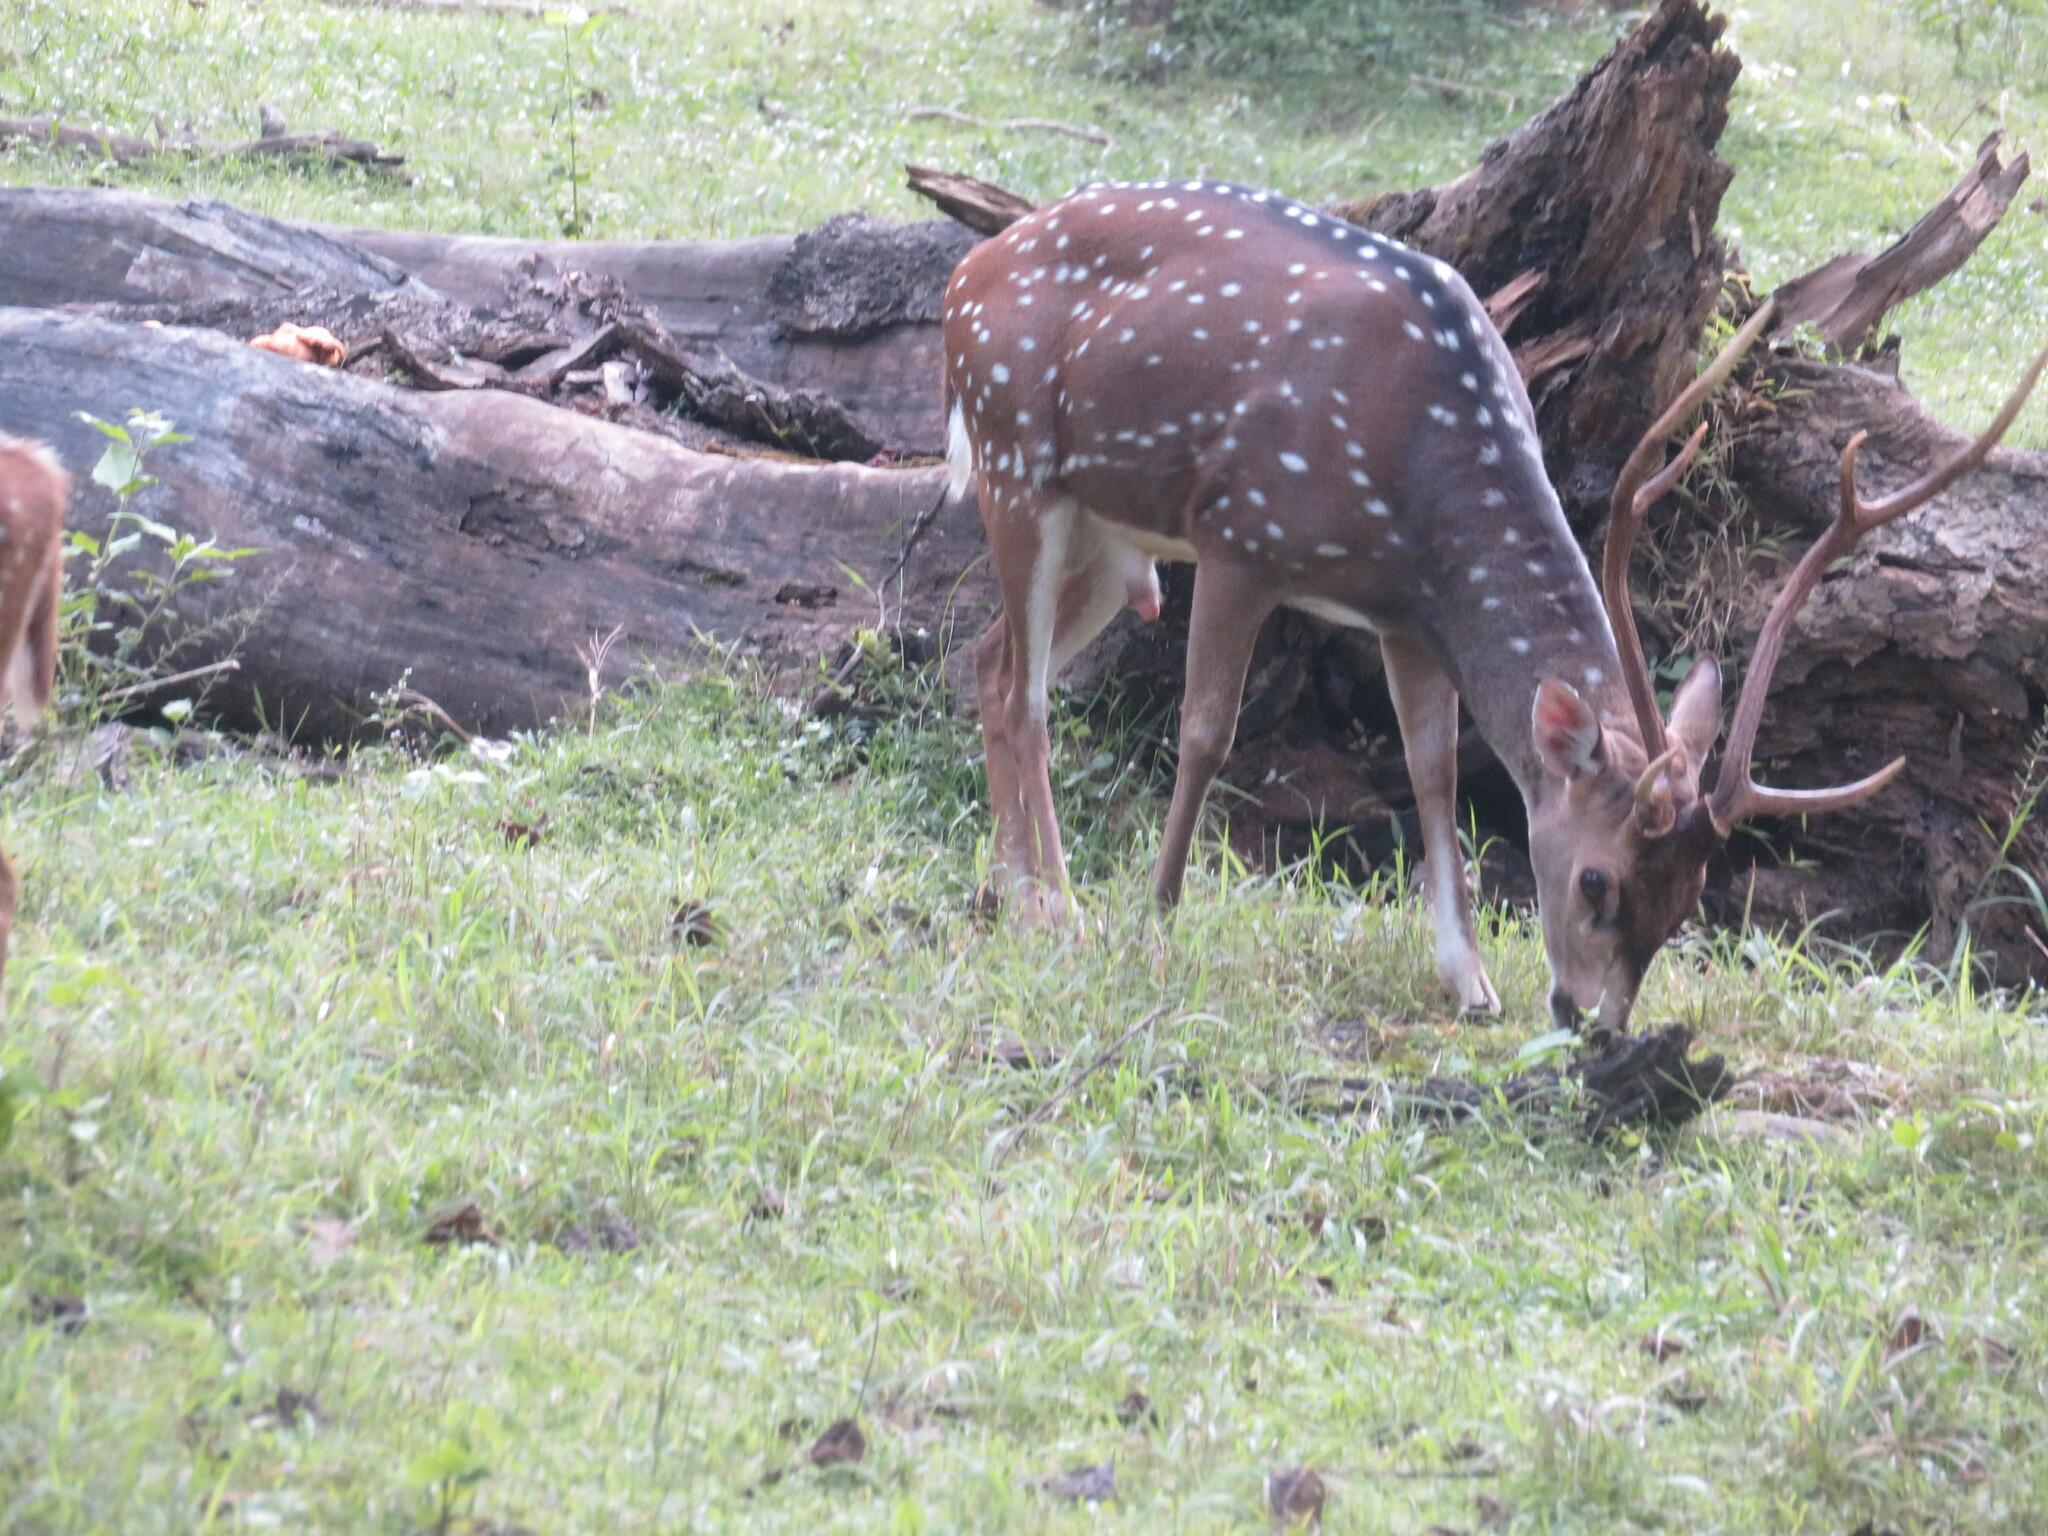Deer: (943, 182, 2046, 1031)
